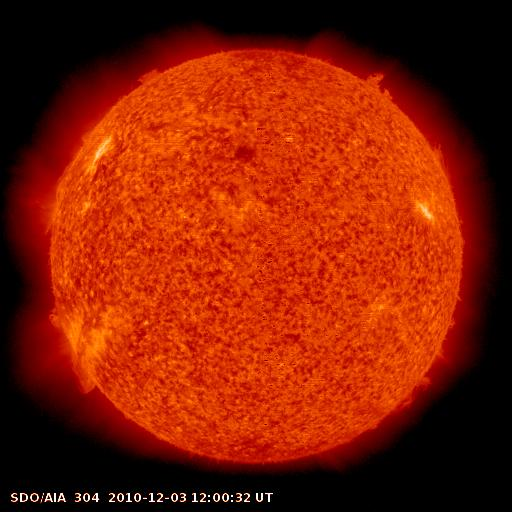prominence: (382, 374, 443, 423), (65, 350, 111, 407), (353, 58, 403, 110), (34, 284, 72, 334), (423, 132, 458, 181), (127, 53, 173, 87)
